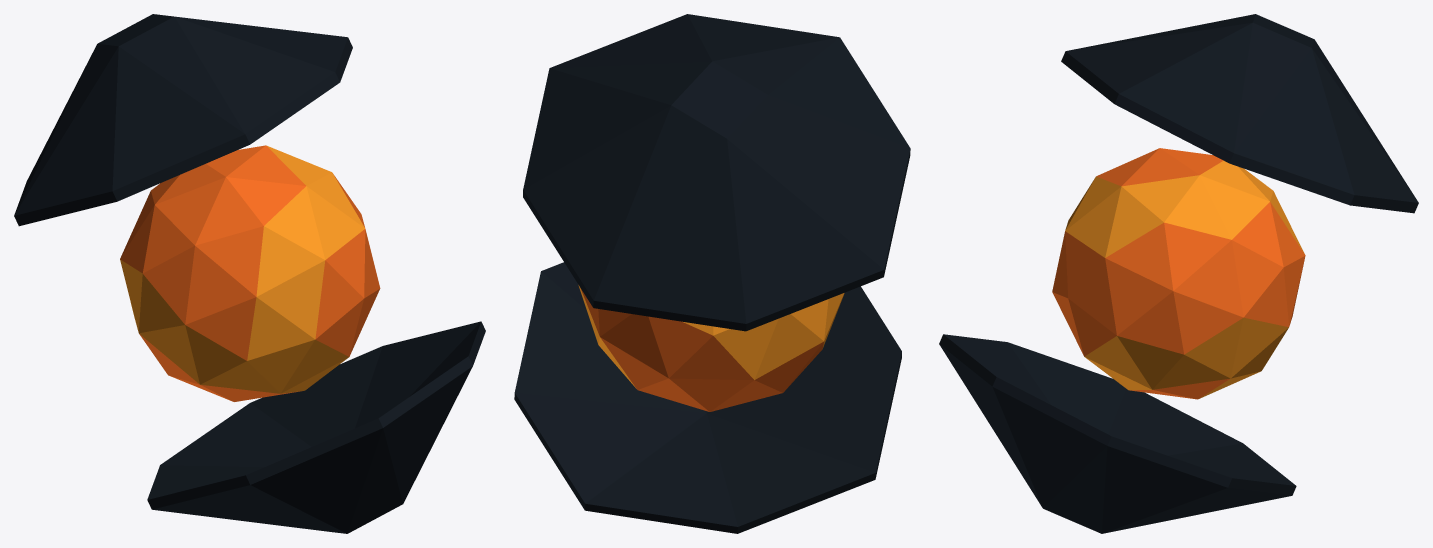
Rendered from power_core.obj.
3 renders of one model, left to right at view 1: azimuth 30°, elevation 25°; view 2: azimuth 150°, elevation 25°; view 3: azimuth 270°, elevation 25°, orthographic. The views are drawn at different scales.
Visible parts, largest first — view 1: Icosphere; view 2: Icosphere; view 3: Icosphere.
Boxes of the visible parts, x1,y1,x2,y2 form: Icosphere: [14, 14, 485, 533]; Icosphere: [514, 14, 910, 533]; Icosphere: [939, 14, 1418, 533].
Bounding box in the file's own units: 2.1 × 2.41 × 2.25.
